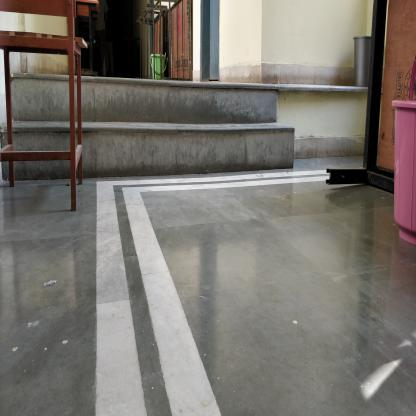stairs: (85, 77, 277, 182)
